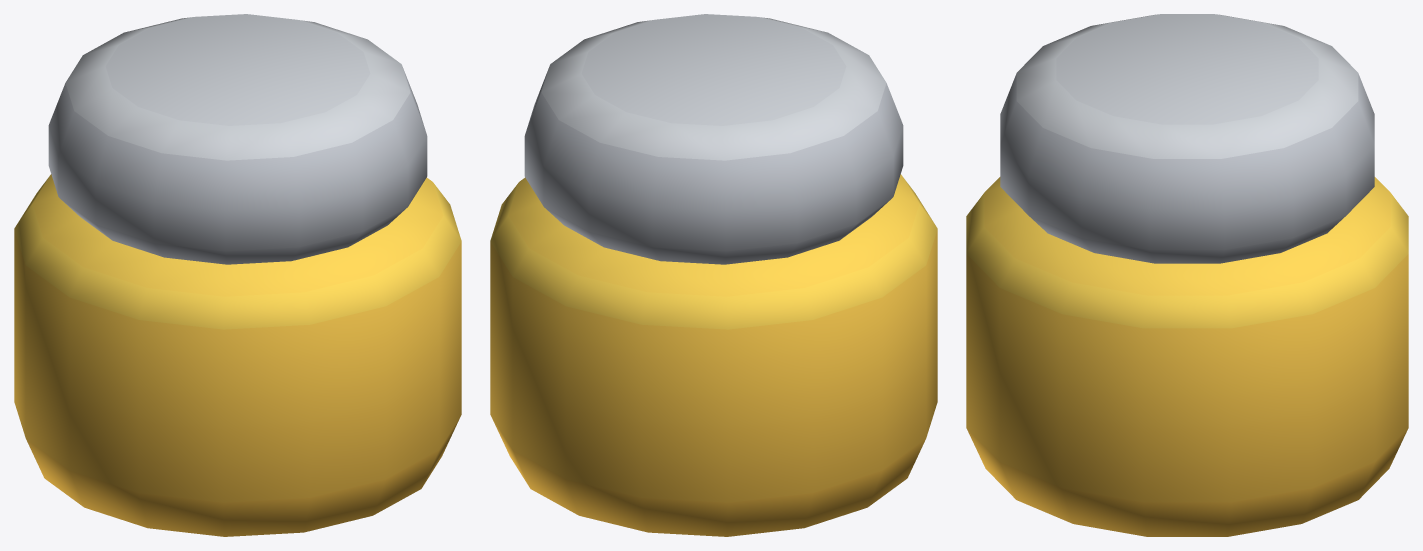
Rendered from Container Bathroom C-QBzD2oKe9c.glb.
3 views of the same model, side by side, from view 1: azimuth 30°, elevation 25°; view 2: azimuth 150°, elevation 25°; view 3: azimuth 270°, elevation 25° (orthographic).
Visible parts, largest first — view 1: container_bathroom_C_yellow; view 2: container_bathroom_C_yellow; view 3: container_bathroom_C_yellow.
Part boxes in pixels (bbox=[...]): container_bathroom_C_yellow: bbox=[14, 14, 461, 536]; container_bathroom_C_yellow: bbox=[490, 14, 937, 536]; container_bathroom_C_yellow: bbox=[966, 14, 1408, 536].
Size of the model in its own units: 0.312 by 0.3119 by 0.3126.
1 material, 1 textured.
